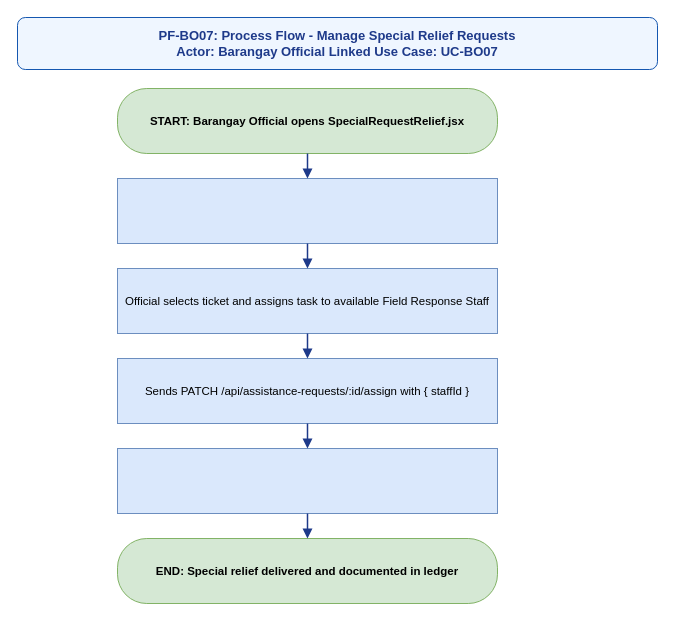
This 675x621 diagram has some shape labels left out. The shapes that lost their labels are listed below. From the top down, each one's centre as x and y in pixels, then its label:
At point (307, 211): "Page calls GET /api/assistance-requests to fetch pending resident tickets".
At point (307, 481): "Field Staff receives task on mobile app & delivers relief door-to-door (PF-FS03)".
